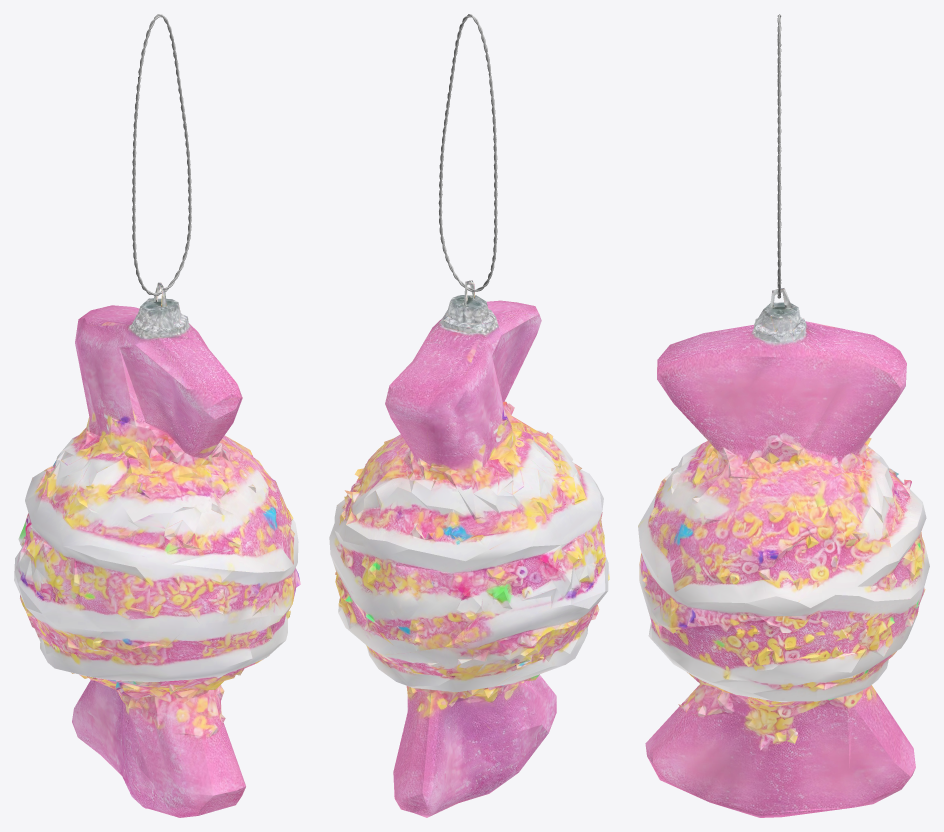
Rendered from sprinkled_candy2.glb.
The picture shows the model from 3 angles, left to right: view 1: azimuth 30°, elevation 25°; view 2: azimuth 150°, elevation 25°; view 3: azimuth 270°, elevation 25°; orthographic projection. The views are drawn at different scales.
Visible parts, largest first — view 1: Mesh1.0, GN Instance; view 2: Mesh1.0, GN Instance; view 3: Mesh1.0, GN Instance.
Boxes of the visible parts, x1=… form: Mesh1.0: x1=14, y1=282, x2=300, y2=817; GN Instance: x1=132, y1=14, x2=191, y2=296; Mesh1.0: x1=329, y1=280, x2=609, y2=817; GN Instance: x1=438, y1=14, x2=497, y2=291; Mesh1.0: x1=638, y1=288, x2=929, y2=817; GN Instance: x1=777, y1=14, x2=781, y2=298.
Bounding box in the file's own units: 0.0767 × 0.2283 × 0.0761.
2 materials, 1 textured.
